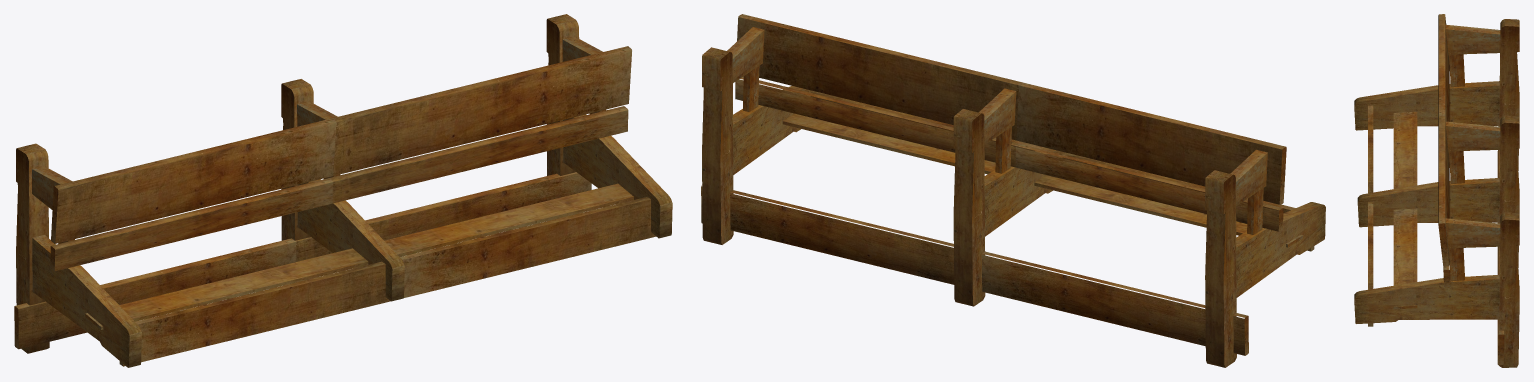
Rendered from caen_churchpew_01.glb.
The picture shows the model from 3 angles, left to right: view 1: azimuth 30°, elevation 25°; view 2: azimuth 150°, elevation 25°; view 3: azimuth 270°, elevation 25°; orthographic projection. The views are drawn at different scales.
Bounding box in the file's own units: 119 × 39.5 × 39.83.
Materials: 1 (1 with a texture image).
